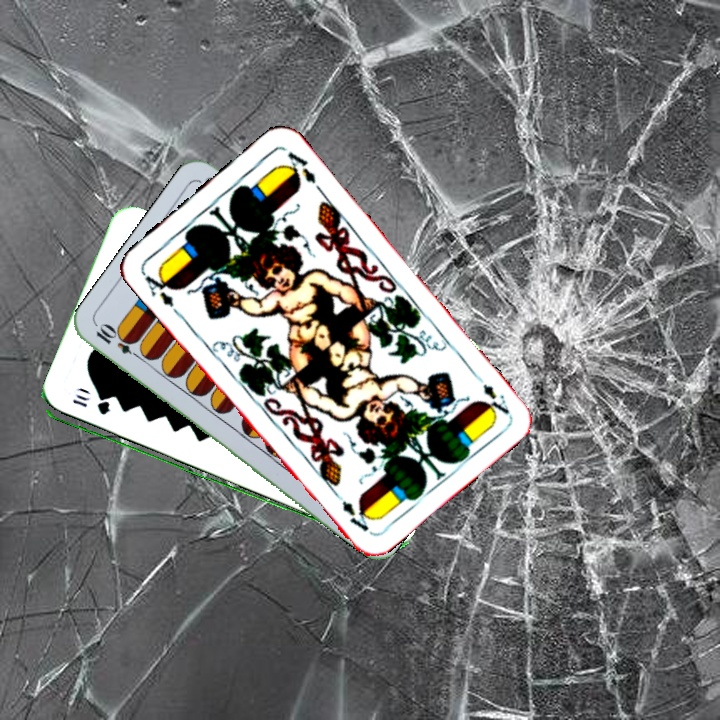E10: (91, 321, 146, 363)
EA: (469, 369, 512, 420), (138, 265, 177, 310)
G10: (68, 390, 112, 418)
